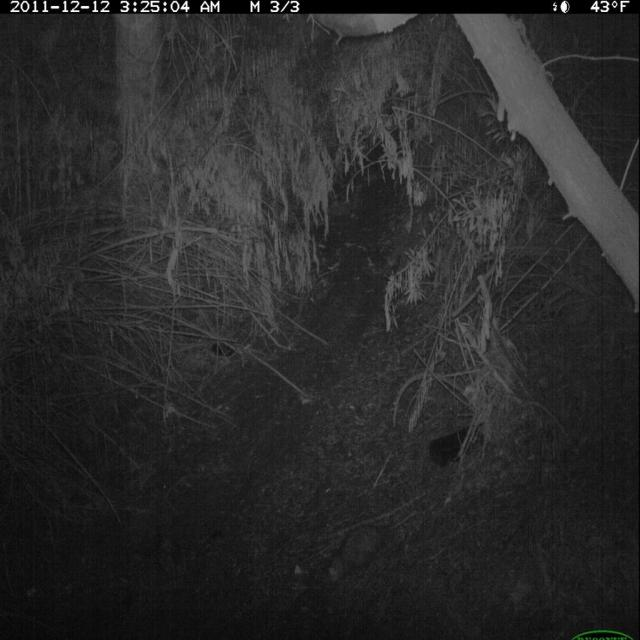opossum: (323, 504, 426, 589)
